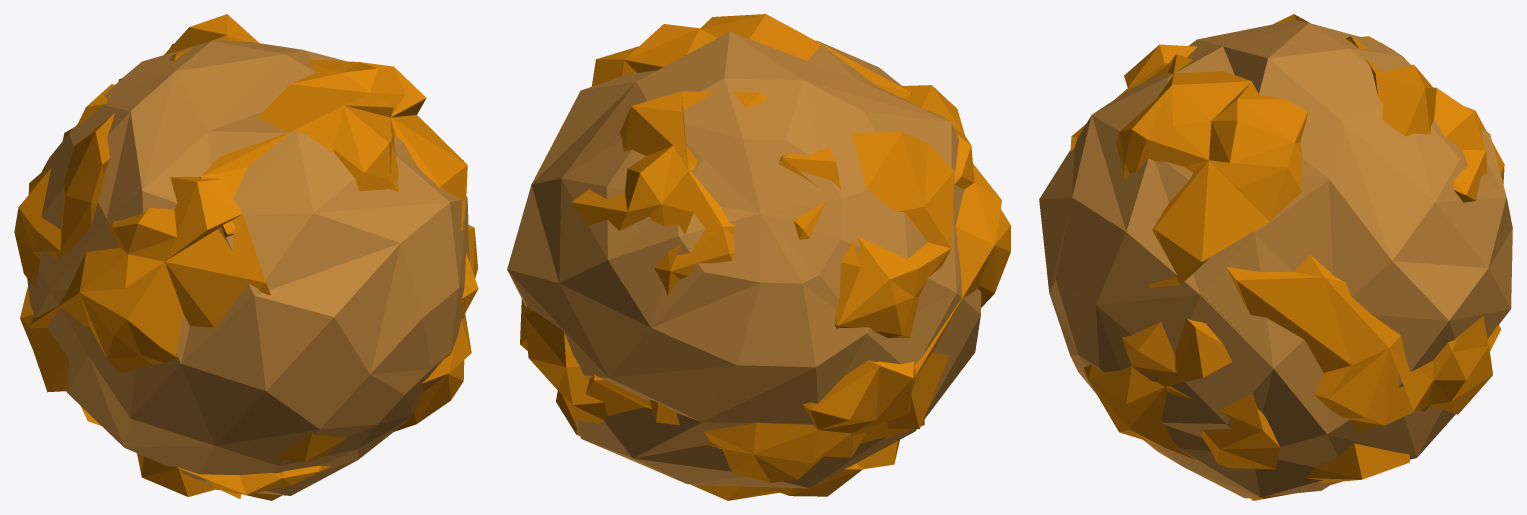
Rendered from venus.glb.
The picture shows the model from 3 angles, left to right: view 1: azimuth 30°, elevation 25°; view 2: azimuth 150°, elevation 25°; view 3: azimuth 270°, elevation 25°; orthographic projection. The views are drawn at different scales.
Parts seen in each view (by area): view 1: node_MeshObject-1631424384-PolyPaper13; view 2: node_MeshObject-1631424384-PolyPaper13; view 3: node_MeshObject-1631424384-PolyPaper13.
Part boxes in pixels (bbox=[...]): node_MeshObject-1631424384-PolyPaper13: bbox=[14, 14, 478, 500]; node_MeshObject-1631424384-PolyPaper13: bbox=[507, 14, 1010, 500]; node_MeshObject-1631424384-PolyPaper13: bbox=[1039, 14, 1512, 500].
Size of the model in its own units: 2.1 by 2.19 by 2.11.
